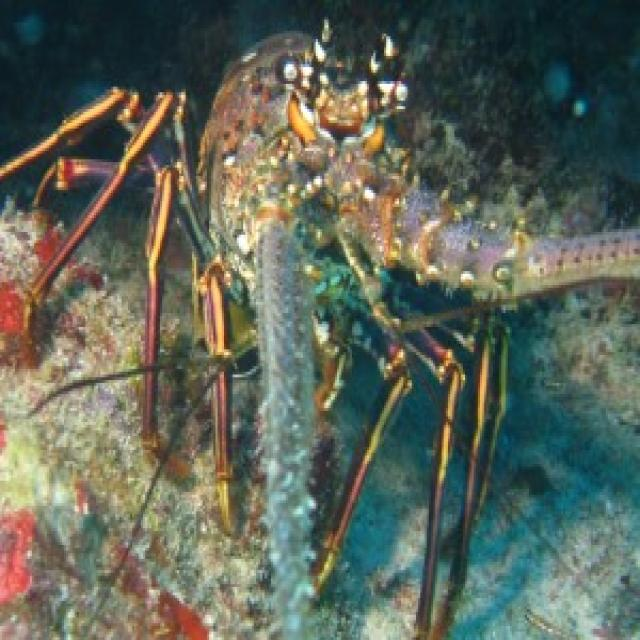lobsters: (26, 0, 571, 562)
